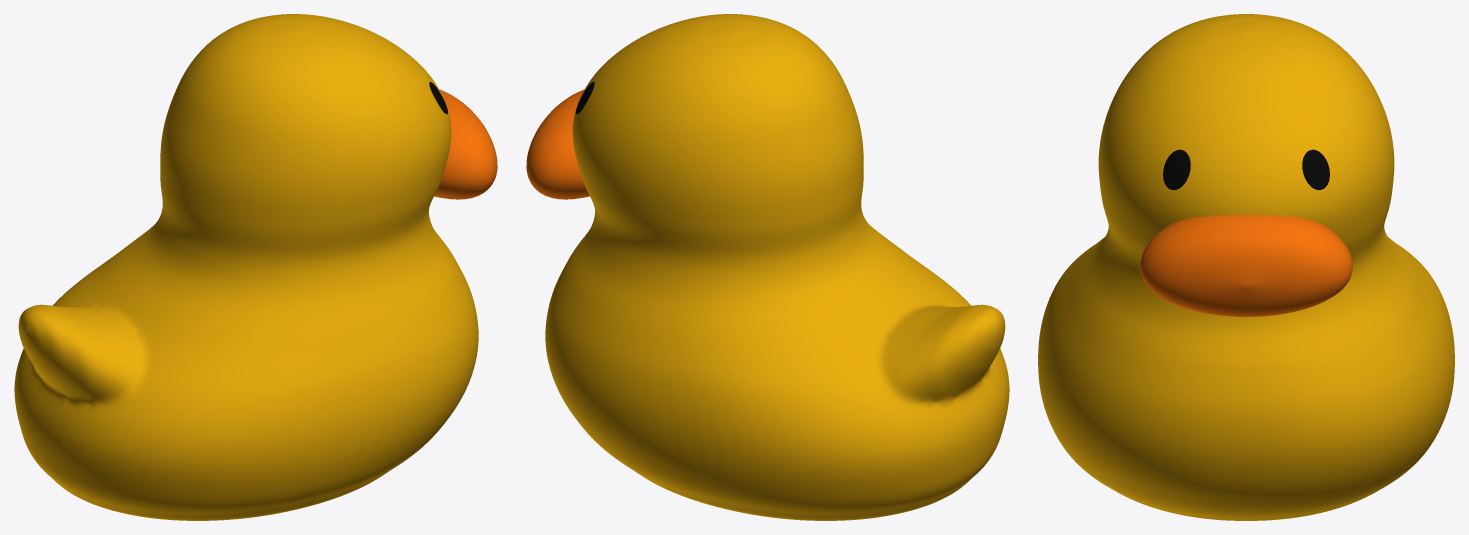
Rendered from duck-v6.glb.
The picture shows the model from 3 angles, left to right: view 1: azimuth 30°, elevation 25°; view 2: azimuth 150°, elevation 25°; view 3: azimuth 270°, elevation 25°; orthographic projection. The views are drawn at different scales.
Parts seen in each view (by area): view 1: Continuous sculpted duck breast neck cheeks crown.001, Wide closed orange moulded bill.001; view 2: Continuous sculpted duck breast neck cheeks crown.001, Wide closed orange moulded bill.001; view 3: Continuous sculpted duck breast neck cheeks crown.001, Wide closed orange moulded bill.001, Reference small black oval eye.002, Reference small black oval eye.003.
Part boxes in pixels (left/top/right/bottom): Continuous sculpted duck breast neck cheeks crown.001: left=14, top=14, right=478, bottom=520; Wide closed orange moulded bill.001: left=434, top=89, right=497, bottom=199; Continuous sculpted duck breast neck cheeks crown.001: left=545, top=14, right=1009, bottom=520; Wide closed orange moulded bill.001: left=526, top=89, right=589, bottom=199; Continuous sculpted duck breast neck cheeks crown.001: left=1038, top=14, right=1454, bottom=520; Wide closed orange moulded bill.001: left=1140, top=215, right=1352, bottom=316; Reference small black oval eye.002: left=1163, top=149, right=1190, bottom=190; Reference small black oval eye.003: left=1302, top=149, right=1329, bottom=190.
Size of the model in its own units: 1 by 0.894 by 0.7407.
